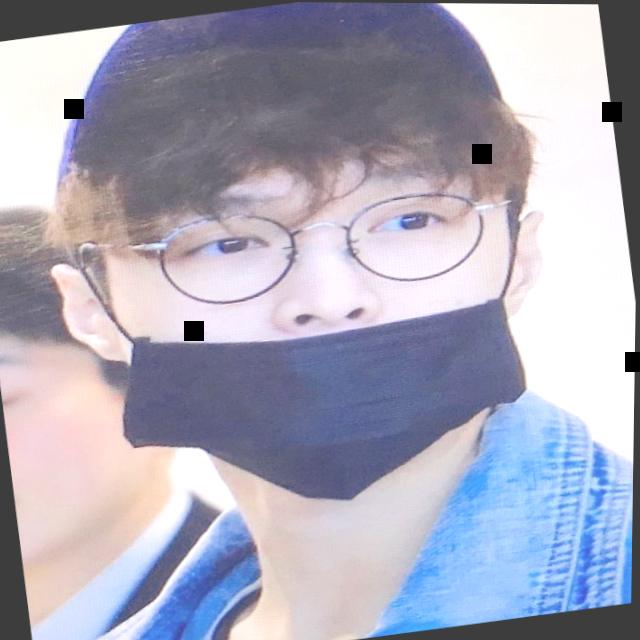Mask: (3, 0, 597, 535)
